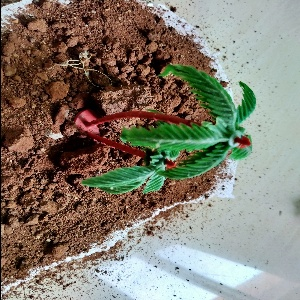plant: (78, 67, 255, 193)
